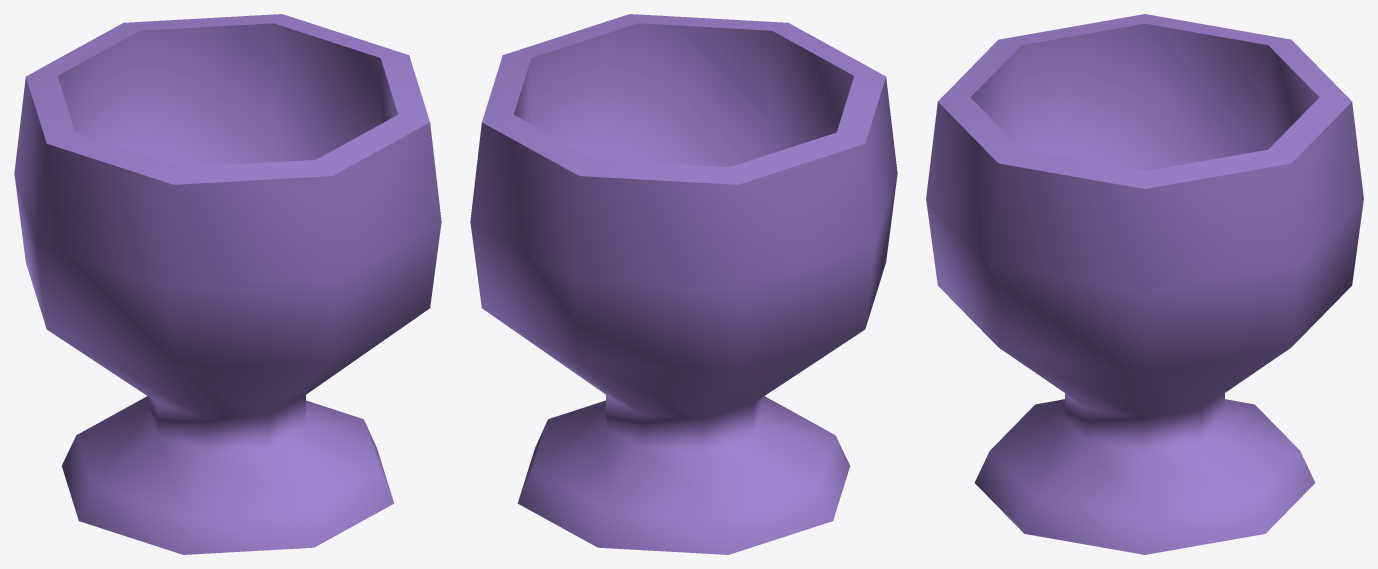
Rendered from SM_Eggholder_001.fbx.
The picture shows the model from 3 angles, left to right: view 1: azimuth 30°, elevation 25°; view 2: azimuth 150°, elevation 25°; view 3: azimuth 270°, elevation 25°; orthographic projection.
Visible parts, largest first — view 1: Eierdop; view 2: Eierdop; view 3: Eierdop.
Part boxes in pixels (x1,y1,x2,y2): Eierdop: (14, 14, 441, 554); Eierdop: (470, 14, 897, 554); Eierdop: (926, 14, 1363, 554).
Bounding box in the file's own units: 0.0298 × 0.029 × 0.0298.
